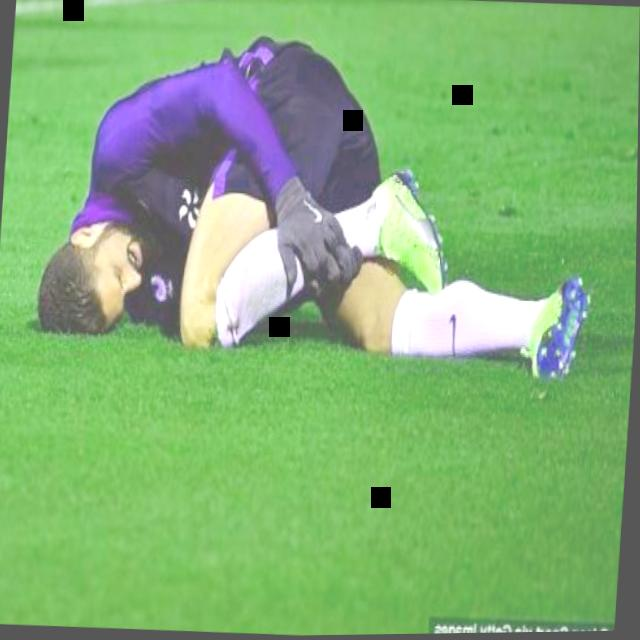Fall-Detected: (28, 7, 623, 394)
